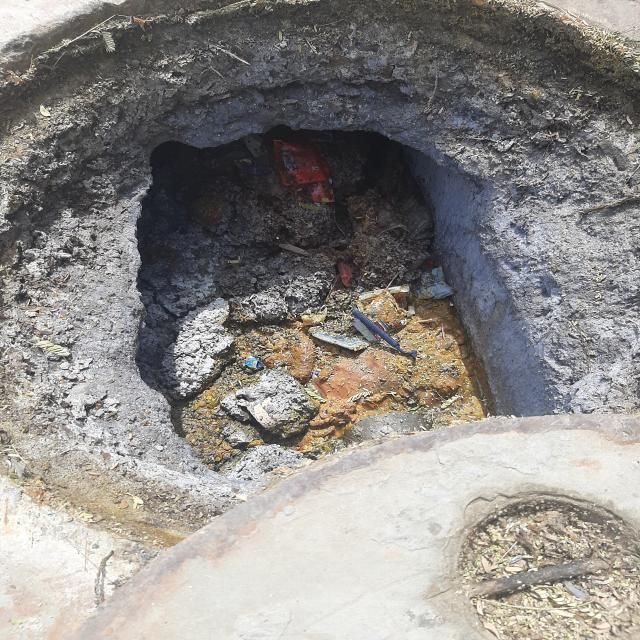dirty_floor: (1, 2, 638, 568), (131, 120, 500, 473), (448, 487, 638, 638)
